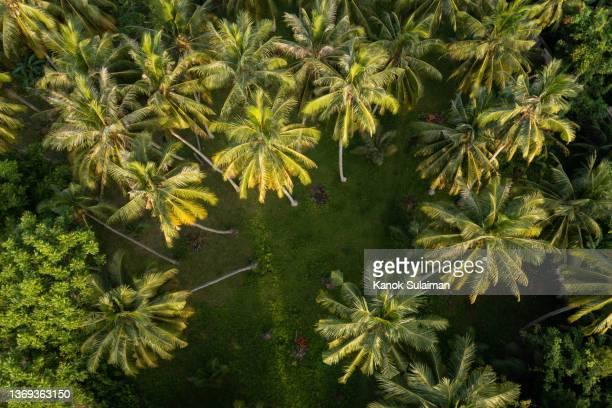coconut_tree: (307, 268, 456, 380), (407, 191, 541, 302), (77, 271, 195, 378), (219, 106, 322, 211), (41, 70, 144, 175), (106, 142, 209, 247), (132, 28, 235, 133), (410, 91, 508, 196), (498, 56, 586, 162), (189, 14, 290, 91), (275, 0, 376, 76), (317, 41, 398, 132), (379, 362, 529, 407), (0, 0, 68, 61)
